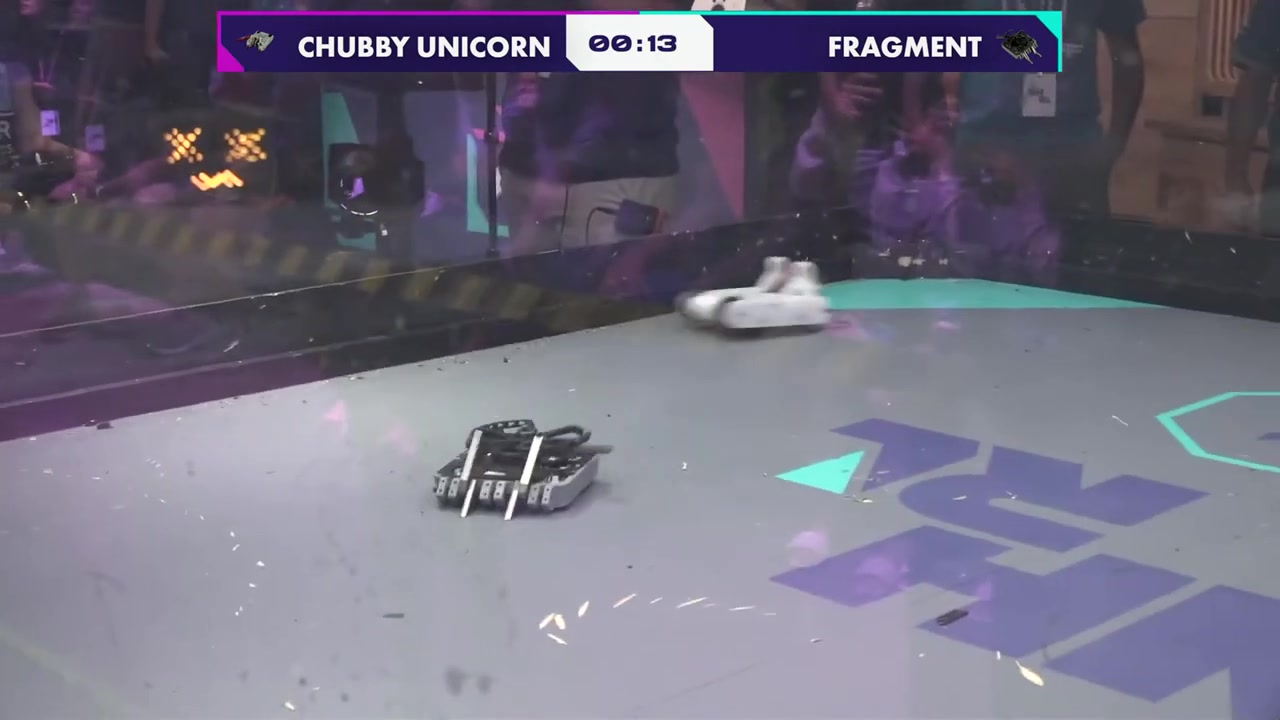combatbot: (432, 419, 602, 521), (675, 257, 834, 340)
